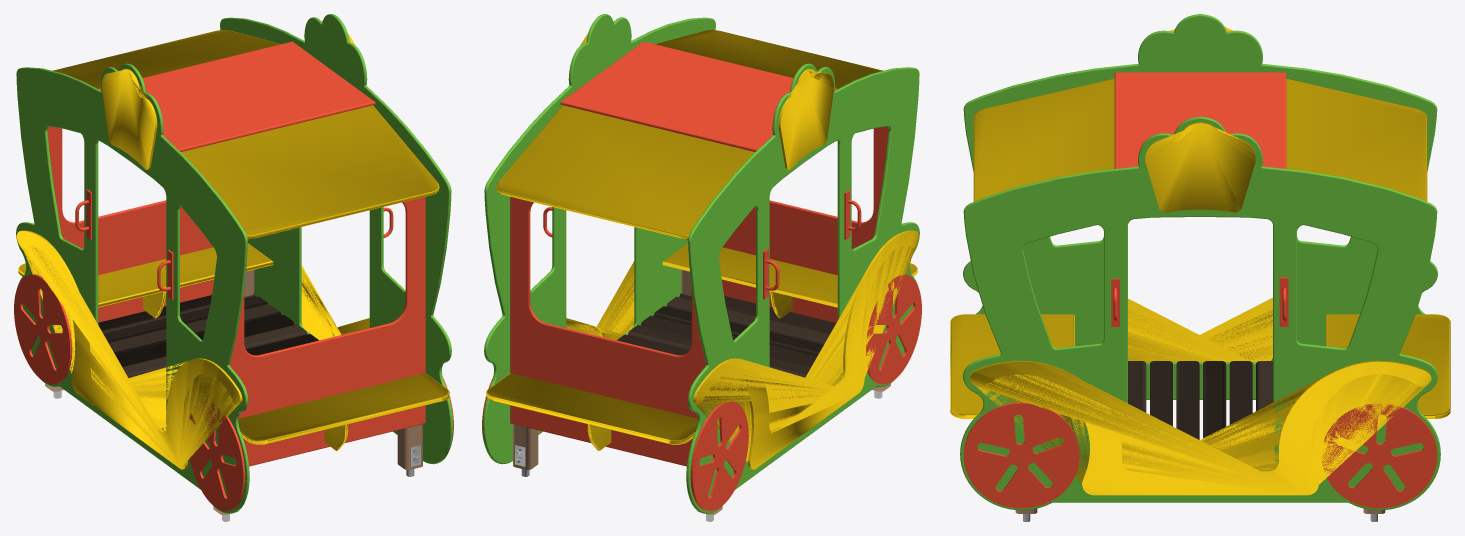
3 views of the same model, side by side, from view 1: azimuth 30°, elevation 25°; view 2: azimuth 150°, elevation 25°; view 3: azimuth 270°, elevation 25° (orthographic). The views are drawn at different scales.
Visible parts, largest first — view 1: D_16; view 2: D_16; view 3: D_16.
Boxes of the visible parts, x1,y1,x2,y2 form: D_16: [14, 14, 453, 521]; D_16: [482, 14, 921, 521]; D_16: [950, 14, 1450, 521].
Size of the model in its own units: 116 by 186 by 207.
